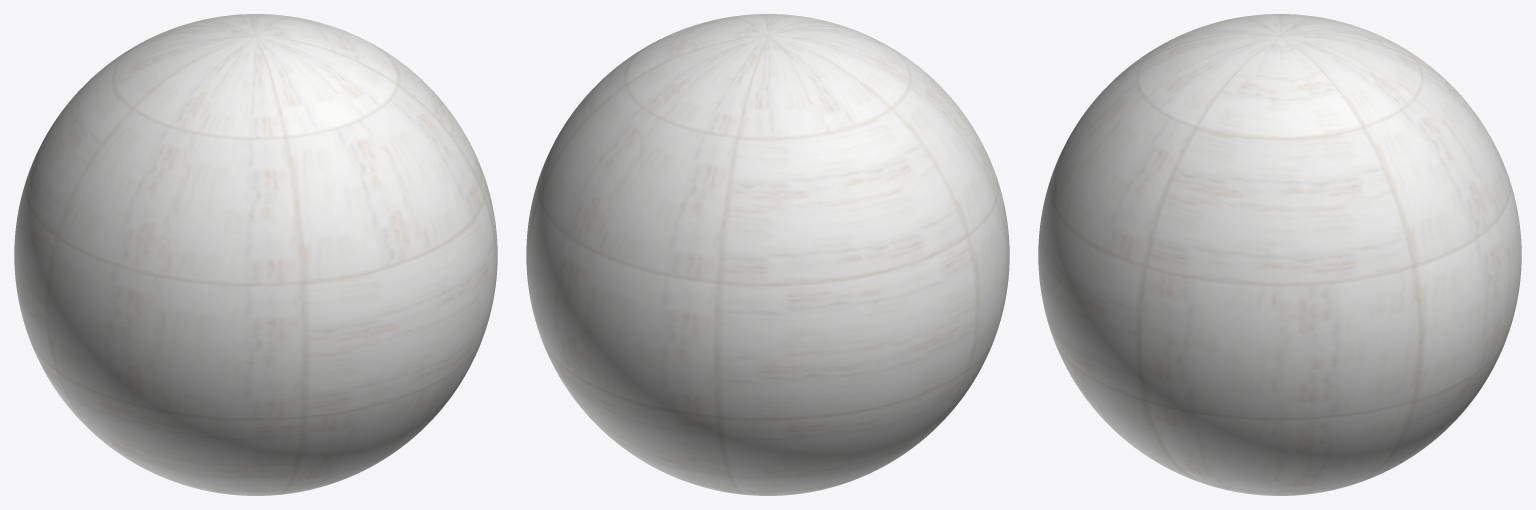
The model's file is marble.gltf.
3 renders of one model, left to right at view 1: azimuth 30°, elevation 25°; view 2: azimuth 150°, elevation 25°; view 3: azimuth 270°, elevation 25°, orthographic.
Visible parts, largest first — view 1: Sphere; view 2: Sphere; view 3: Sphere.
Part boxes in pixels (x1,y1,x2,y2): Sphere: (14, 14, 497, 495); Sphere: (526, 14, 1009, 495); Sphere: (1038, 14, 1521, 495).
Bounding box in the file's own units: 2 × 2 × 2.
1 material, 1 textured.
